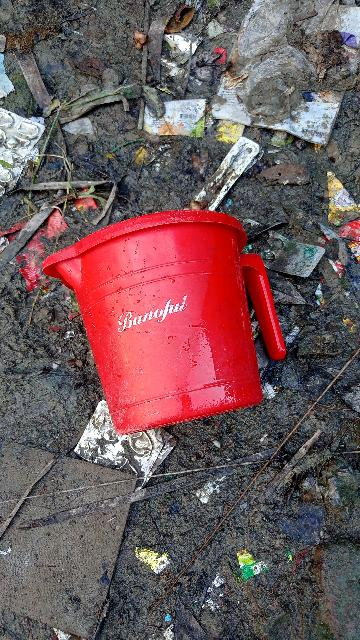hardplastic: (69, 212, 288, 431)
